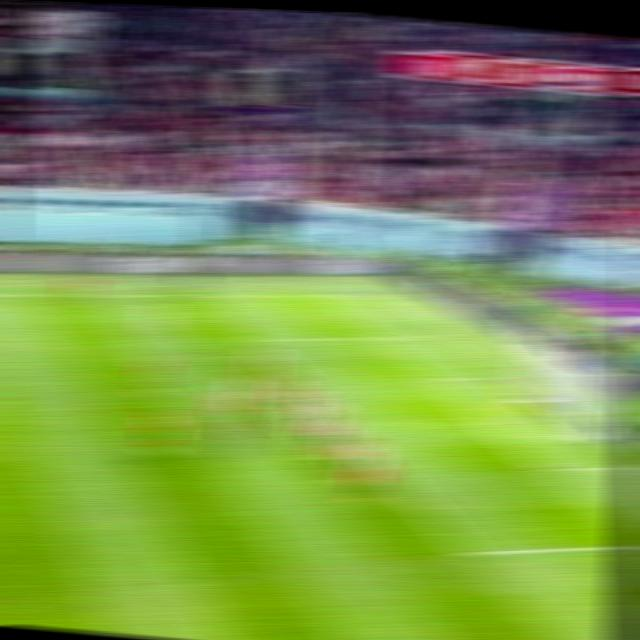bigarea_bottom_inner: (452, 537, 491, 567)
bigarea_top_inner: (241, 330, 272, 348)
bigarea_top_outter: (417, 327, 450, 344)
corner: (357, 288, 390, 303)
smallarea_bottom_inner: (530, 456, 566, 481)
smallarea_bottom_outter: (604, 455, 638, 476)
smallarea_top_inner: (416, 368, 448, 388)
smallarea_top_outter: (474, 367, 508, 385)
